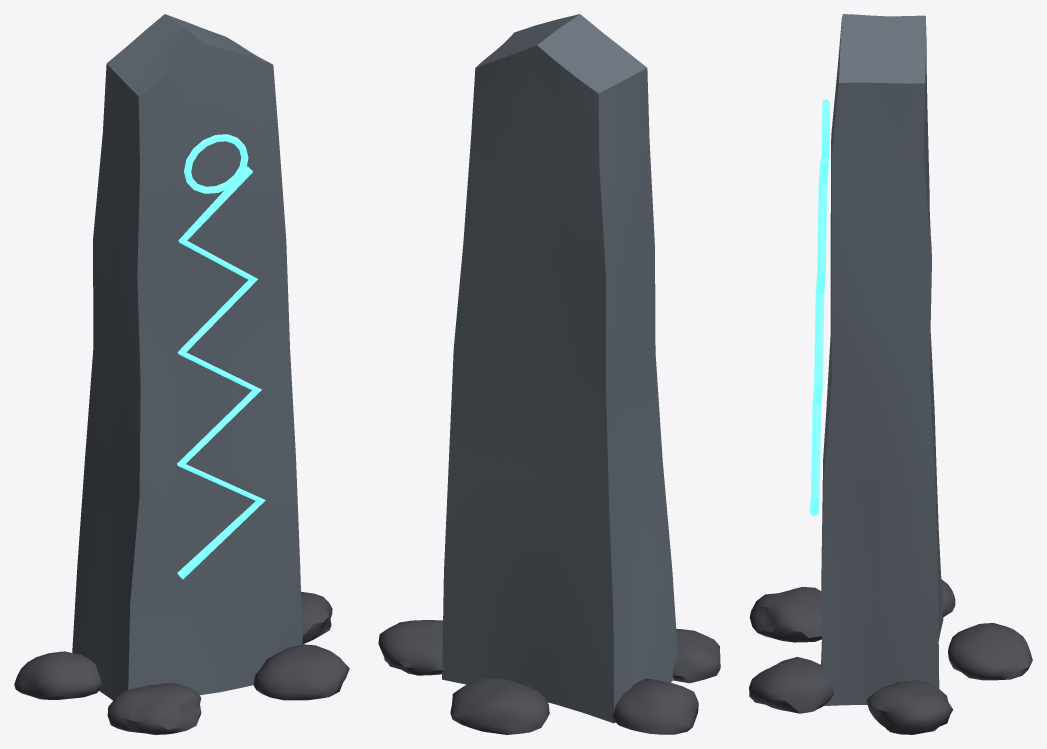
Rendered from deco_standing_stone_tall.fbx.
3 views of the same model, side by side, from view 1: azimuth 30°, elevation 25°; view 2: azimuth 150°, elevation 25°; view 3: azimuth 270°, elevation 25° (orthographic).
Parts seen in each view (by area): view 1: StandingStone_Tall_Stone, StandingStone_Tall_Footing, StandingStone_Tall_GlowLines; view 2: StandingStone_Tall_Stone, StandingStone_Tall_Footing; view 3: StandingStone_Tall_Stone, StandingStone_Tall_Footing, StandingStone_Tall_GlowLines.
Boxes of the visible parts, box(x1,y1,x2,y2) form: StandingStone_Tall_Stone: box(72, 14, 302, 700); StandingStone_Tall_Footing: box(14, 591, 349, 734); StandingStone_Tall_GlowLines: box(177, 134, 265, 579); StandingStone_Tall_Stone: box(442, 14, 677, 723); StandingStone_Tall_Footing: box(378, 620, 720, 734); StandingStone_Tall_Stone: box(821, 14, 943, 705); StandingStone_Tall_Footing: box(749, 579, 1032, 734); StandingStone_Tall_GlowLines: box(809, 99, 829, 516).
Bounding box in the file's own units: 166 × 331 × 131.
